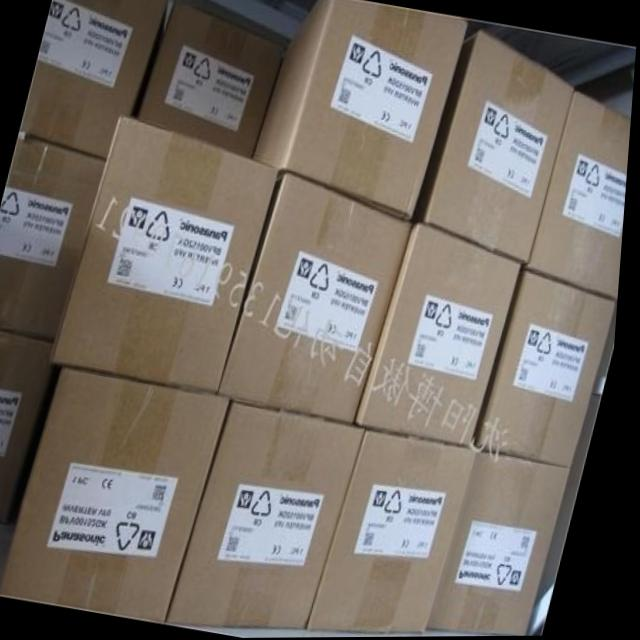box: (54, 114, 281, 393), (6, 366, 237, 622), (225, 172, 415, 424), (257, 0, 468, 219), (174, 401, 372, 630), (415, 30, 576, 265), (362, 223, 526, 446), (317, 428, 483, 633), (480, 270, 622, 468), (436, 450, 577, 637), (140, 0, 286, 157), (22, 0, 168, 157), (526, 92, 633, 300), (0, 137, 108, 341), (0, 329, 59, 523)
